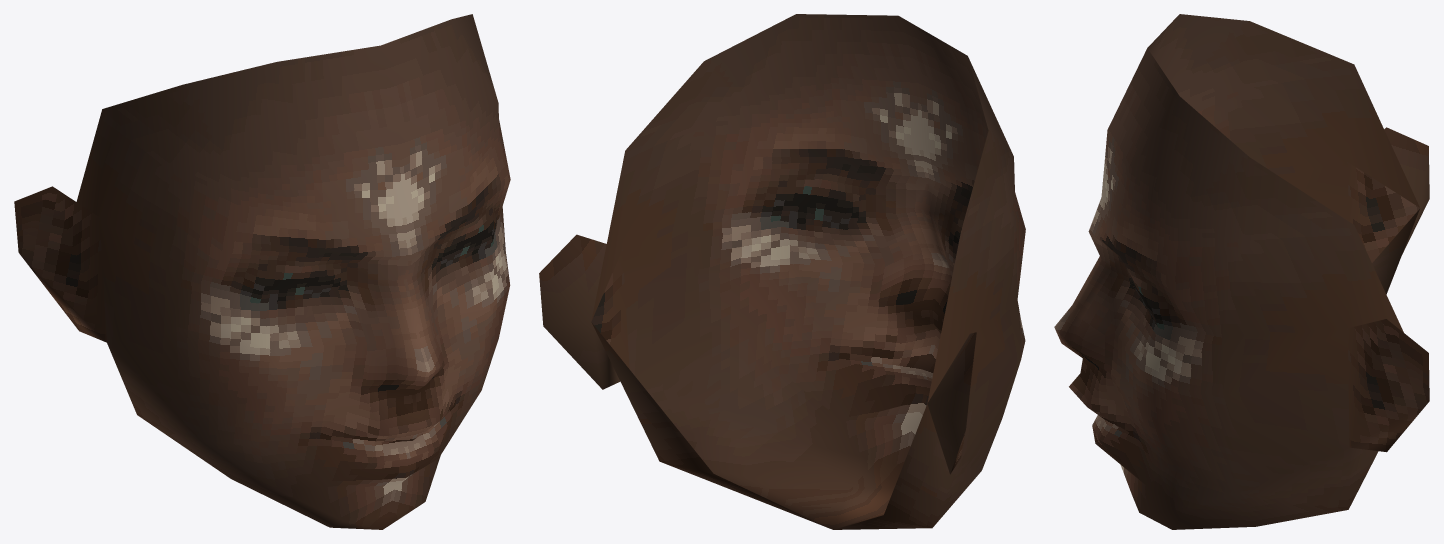
3 views of the same model, side by side, from view 1: azimuth 30°, elevation 25°; view 2: azimuth 150°, elevation 25°; view 3: azimuth 270°, elevation 25° (orthographic). The views are drawn at different scales.
Bounding box in the file's own units: 19.4 × 20.74 × 14.88.
Materials: 1 (1 with a texture image).
